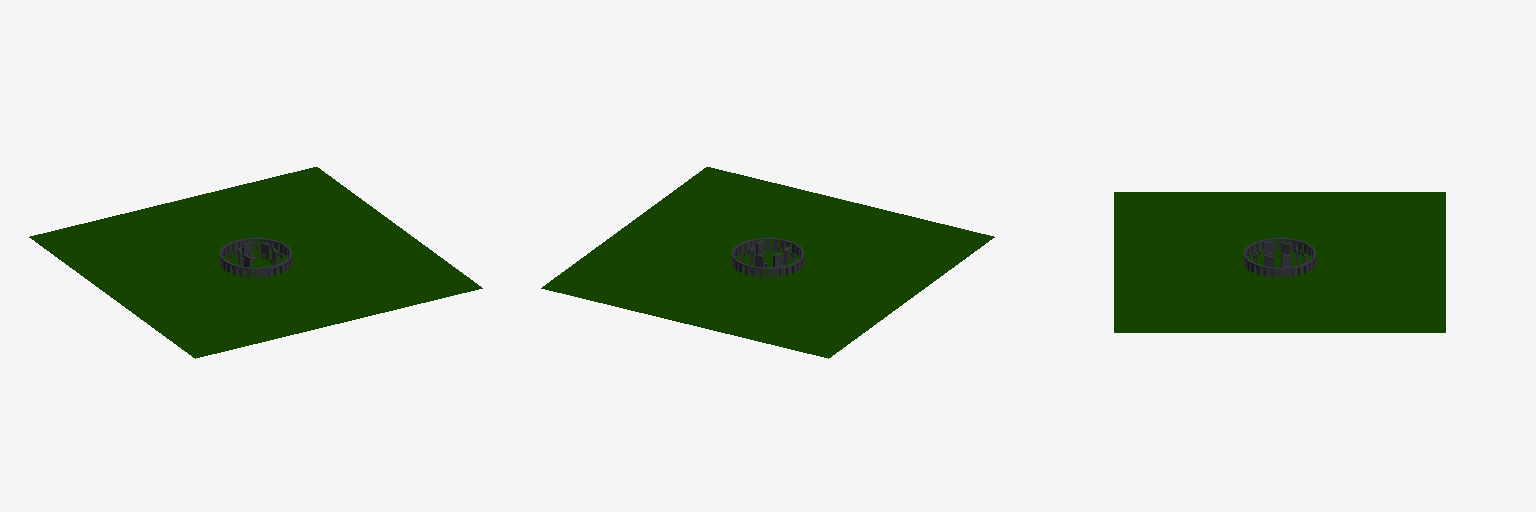
Rendered from stonehenge.obj.
3 renders of one model, left to right at view 1: azimuth 30°, elevation 25°; view 2: azimuth 150°, elevation 25°; view 3: azimuth 270°, elevation 25°, orthographic.
Visible parts, largest first — view 1: Mesh1 Model; view 2: Mesh1 Model; view 3: Mesh1 Model.
Part boxes in pixels (left/top/right/bottom): Mesh1 Model: left=29, top=167, right=482, bottom=358; Mesh1 Model: left=541, top=167, right=994, bottom=358; Mesh1 Model: left=1114, top=192, right=1445, bottom=332.
Bounding box in the file's own units: 153 × 6.75 × 153.